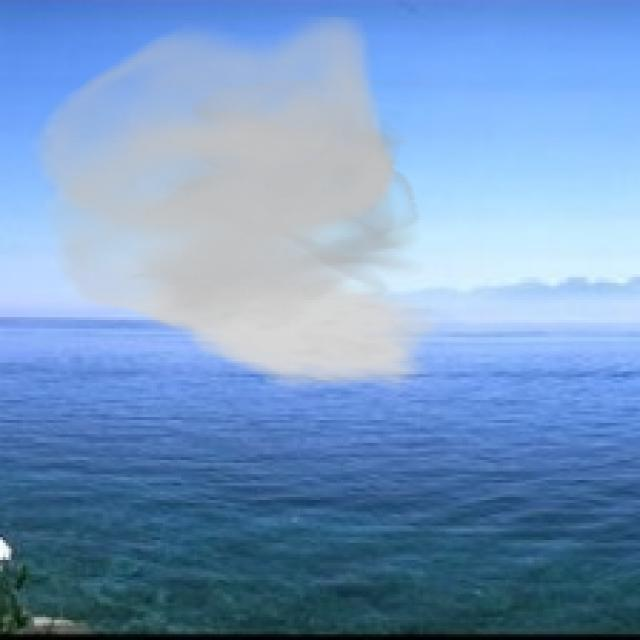smoke: (23, 14, 446, 394)
